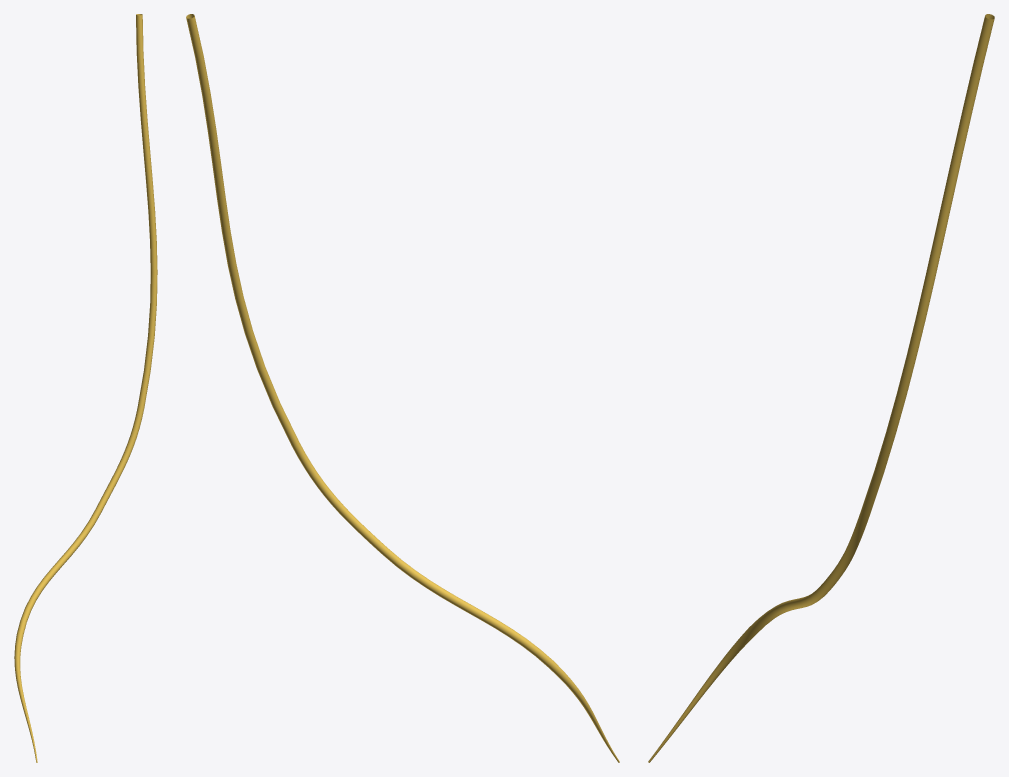
File: Palmar_branch_median_nerve_right.glb
3 renders of one model, left to right at view 1: azimuth 30°, elevation 25°; view 2: azimuth 150°, elevation 25°; view 3: azimuth 270°, elevation 25°, orthographic. The views are drawn at different scales.
Parts seen in each view (by area): view 1: Palmar_branch_of_median_nerve.r_BezierCurve.493; view 2: Palmar_branch_of_median_nerve.r_BezierCurve.493; view 3: Palmar_branch_of_median_nerve.r_BezierCurve.493.
Part boxes in pixels (<box>): Palmar_branch_of_median_nerve.r_BezierCurve.493: <box>14,14,157,762</box>; Palmar_branch_of_median_nerve.r_BezierCurve.493: <box>186,14,619,762</box>; Palmar_branch_of_median_nerve.r_BezierCurve.493: <box>648,14,994,762</box>.
Size of the model in its own units: 0.0373 by 0.0986 by 0.0343.
